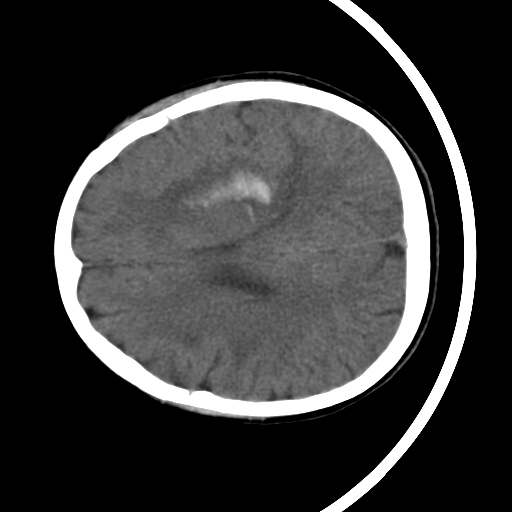a: (143, 108, 319, 241)
